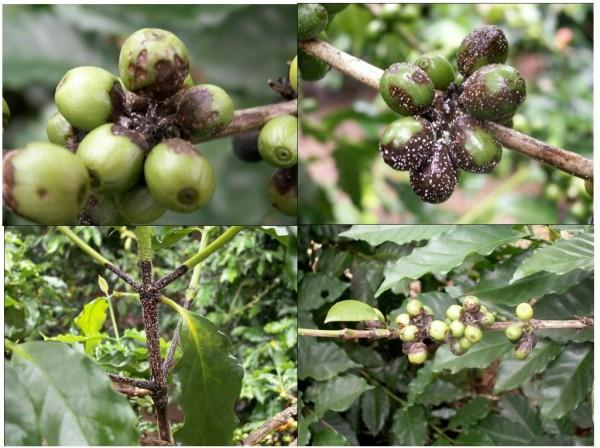mal de hilachas: (389, 23, 526, 208), (108, 250, 217, 448), (105, 59, 216, 149), (403, 307, 516, 357)
